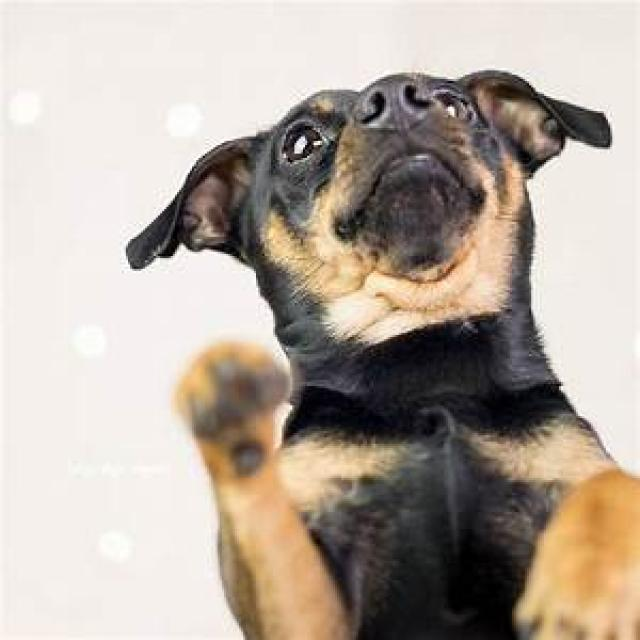dog: (126, 71, 614, 640)
